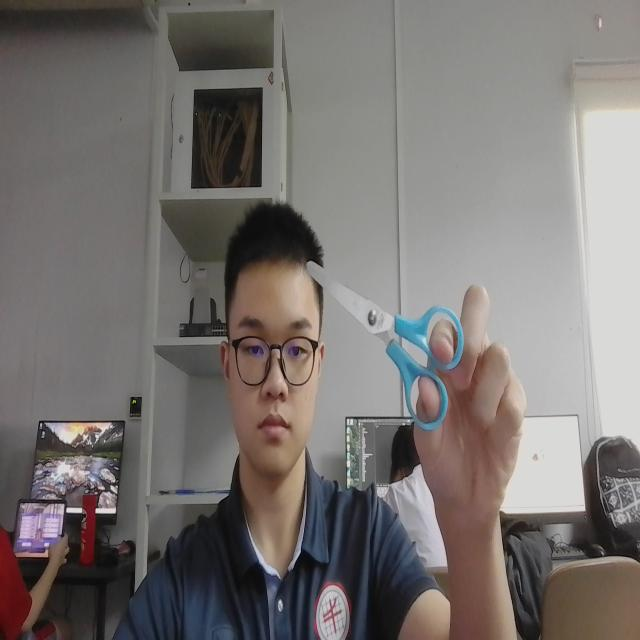scissors: (293, 228, 467, 450)
